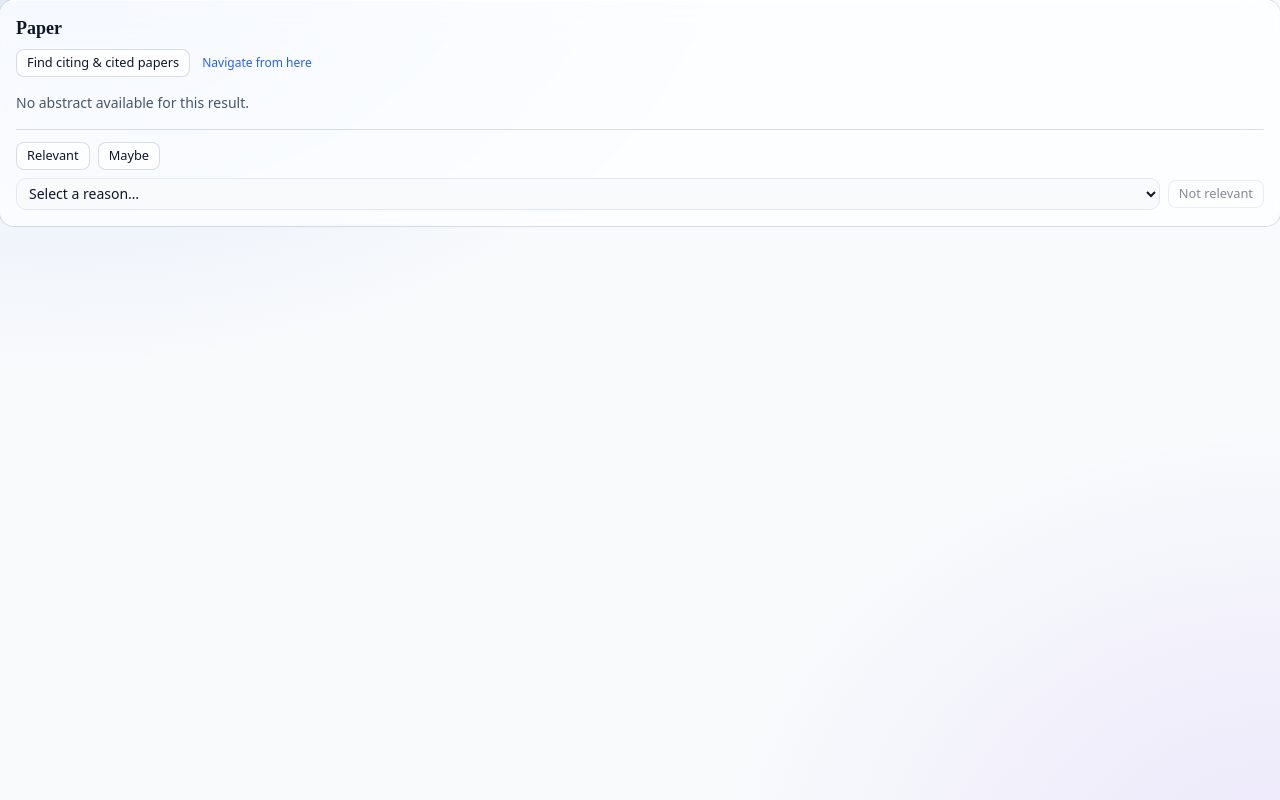
Test: a failed snowball shows a friendly error
The width and height of the screenshot is (1280, 800).
Click the button "Find citing & cited papers" at coordinates (103, 63), box [16,49,190,77]
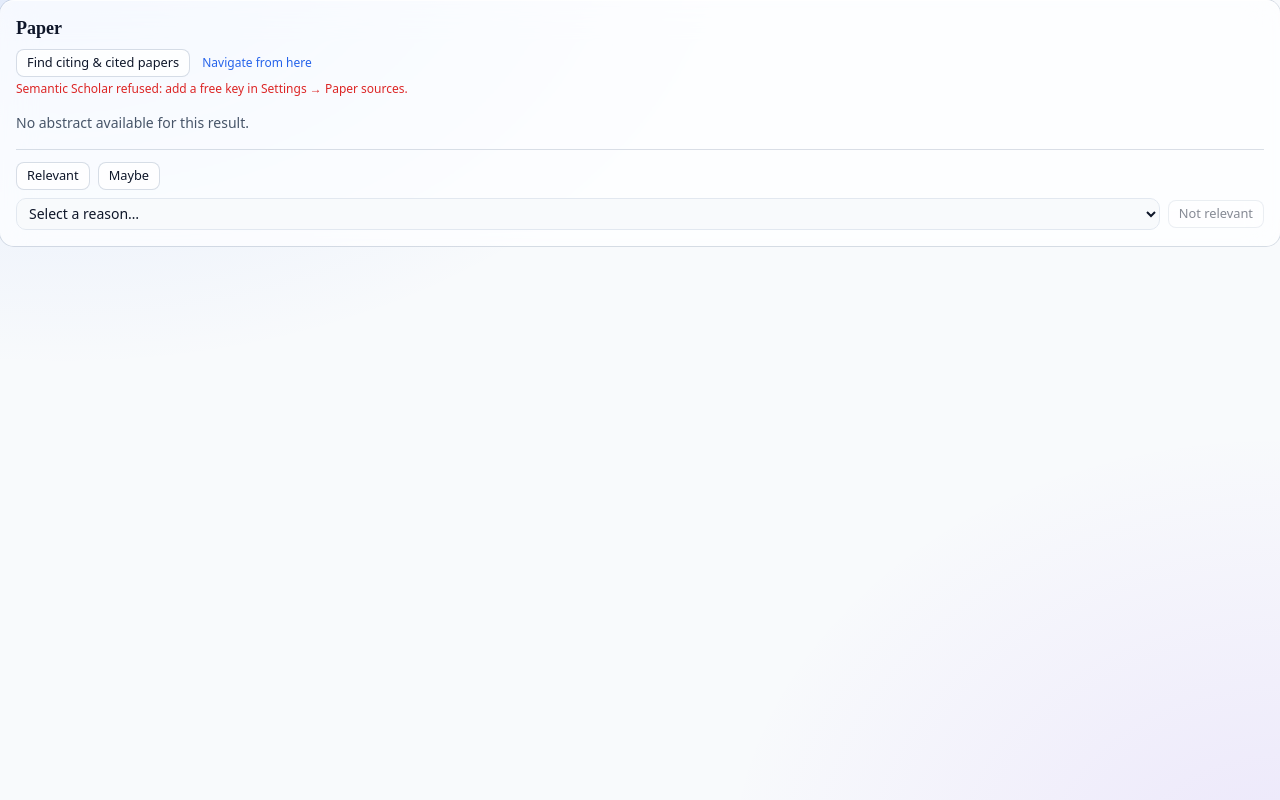
Expected: the message shows "Semantic Scholar refused", [16,80,408,97]
